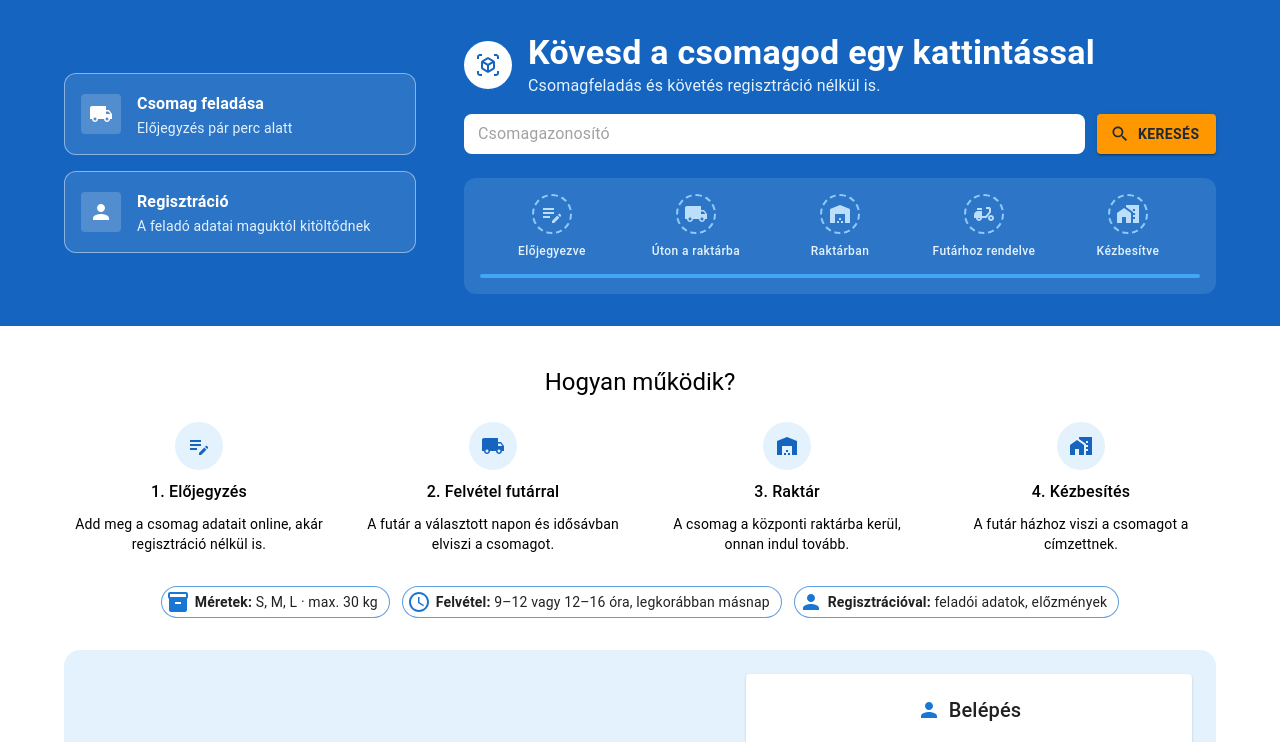
Scenario: Nyilvános követés › ismeretlen azonosítónál a szerver üzenetét mutatja
The image size is (1280, 742).
In the field labelled "Csomagazonosító": [775, 134] box [464,114,1085,154], type "77011983-e714-47b2-9bbb-cb3058c81a2e"
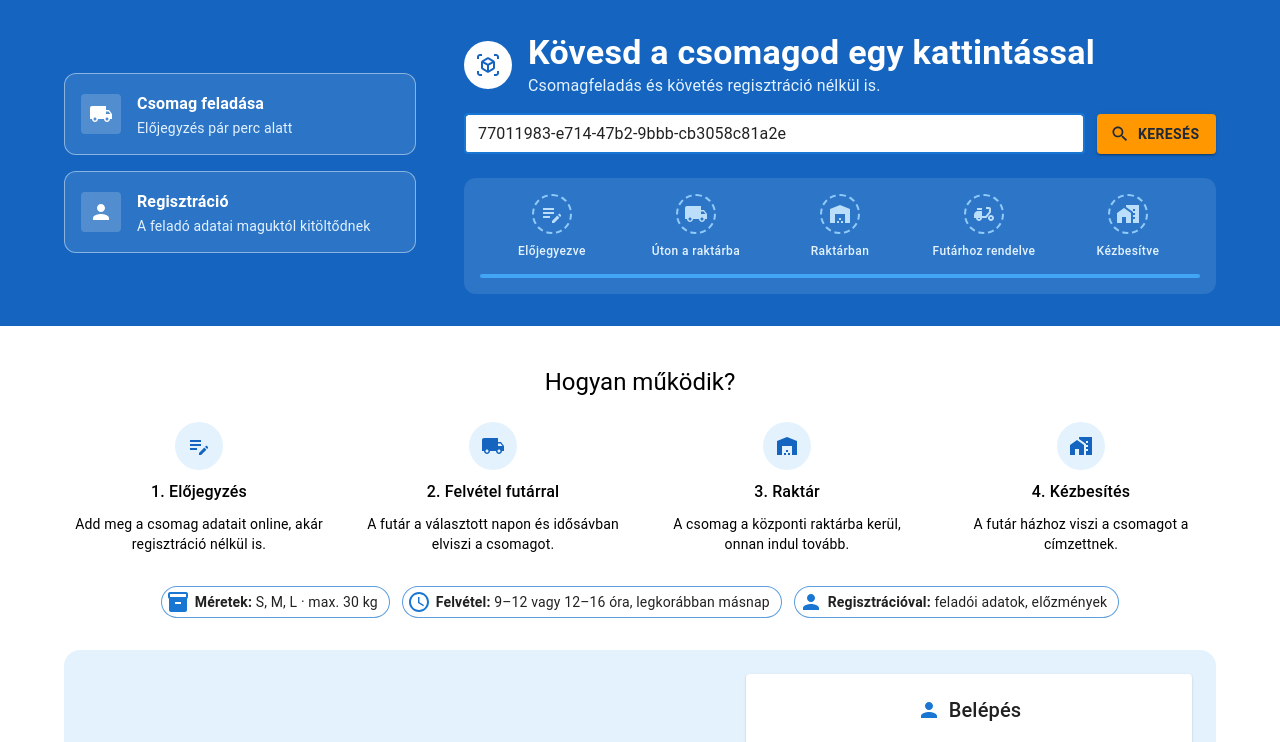
Click the button "Keresés": [1157, 134] box [1097,114,1216,154]
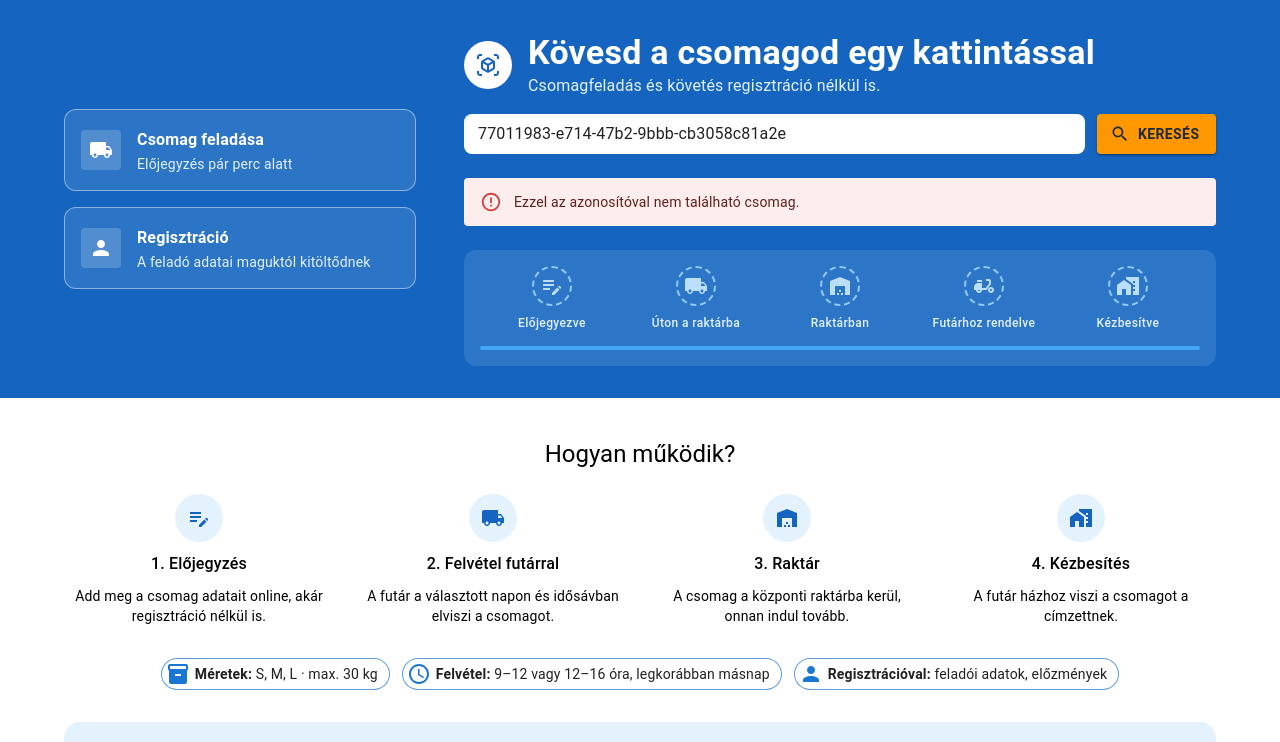
Expected: the message shows "nem található csomag", [514,194,800,210]
